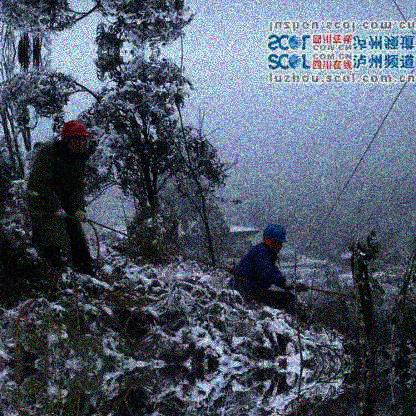helmet: (61, 121, 90, 154), (263, 224, 286, 254)
